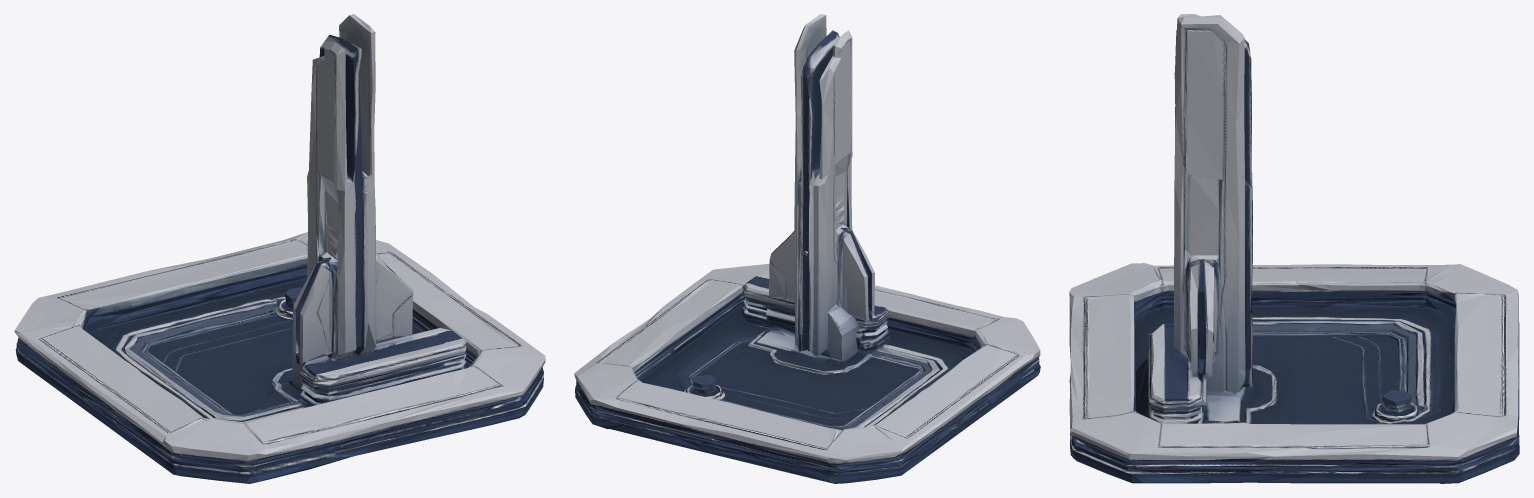
File: knd_plataform_neon_01.glb
The picture shows the model from 3 angles, left to right: view 1: azimuth 30°, elevation 25°; view 2: azimuth 150°, elevation 25°; view 3: azimuth 270°, elevation 25°; orthographic projection. The views are drawn at different scales.
Parts seen in each view (by area): view 1: tripo_node_57ba27ba-8b1a-4a71-aacc-38d39f863de0; view 2: tripo_node_57ba27ba-8b1a-4a71-aacc-38d39f863de0; view 3: tripo_node_57ba27ba-8b1a-4a71-aacc-38d39f863de0.
Part boxes in pixels (bbox=[...]): tripo_node_57ba27ba-8b1a-4a71-aacc-38d39f863de0: bbox=[14, 14, 545, 483]; tripo_node_57ba27ba-8b1a-4a71-aacc-38d39f863de0: bbox=[574, 14, 1040, 483]; tripo_node_57ba27ba-8b1a-4a71-aacc-38d39f863de0: bbox=[1069, 14, 1519, 483].
Size of the model in its own units: 0.979 by 0.9576 by 0.9787.
Materials: 1 (1 with a texture image).
